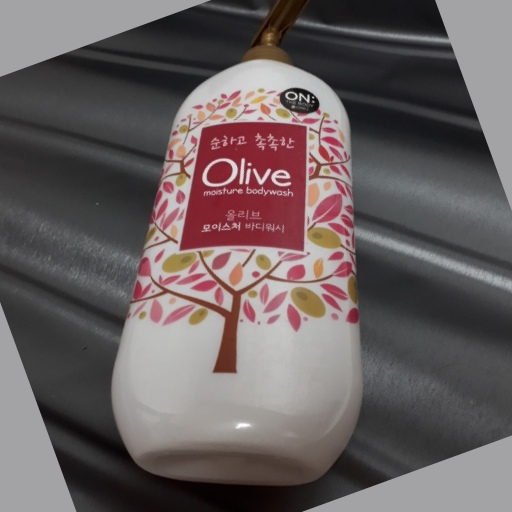Plastic_3: (108, 1, 365, 488)
